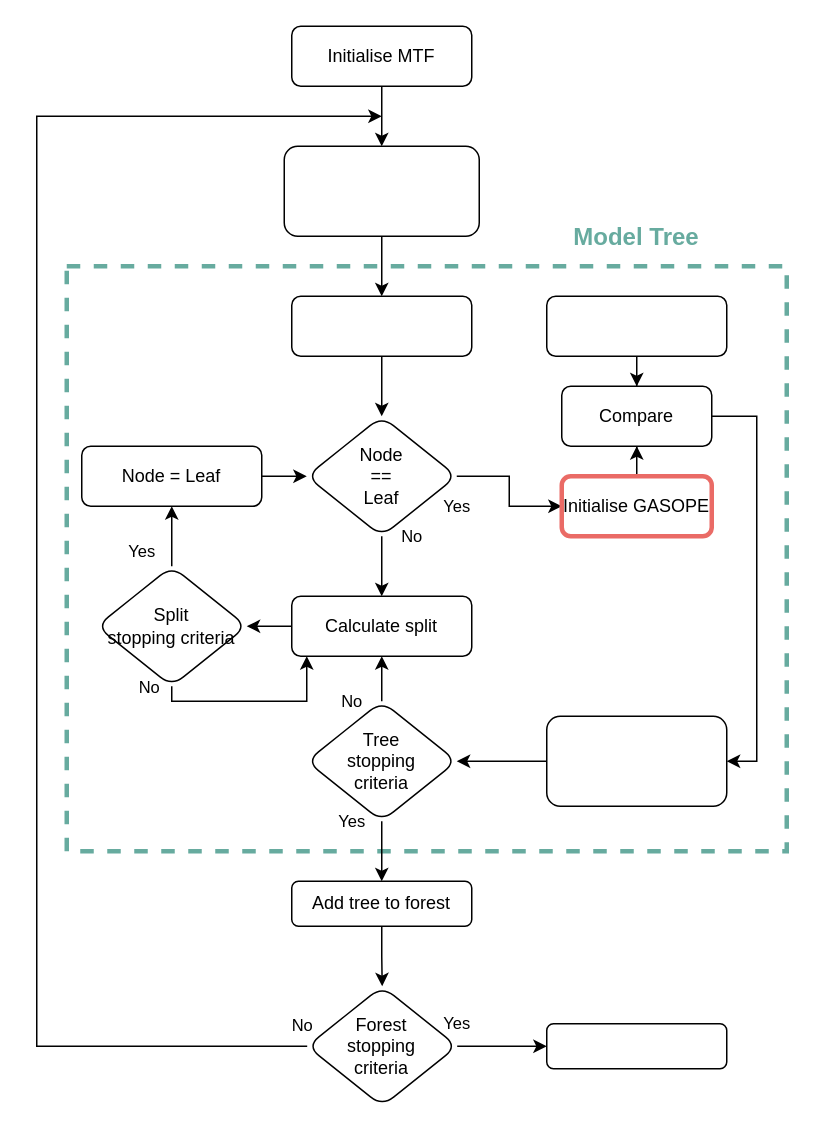
This 815x1133 diagram has some shape labels left out. Each missing label, with the centre of its shape:
Assign leaf node output, resume previous path: the point at 636,760
Initialise Base Linear Model: the point at 636,325
Initialise MT root node: the point at 381,325
Prune forest: the point at 636,1045
Select random subset with replacement: the point at 381,190
